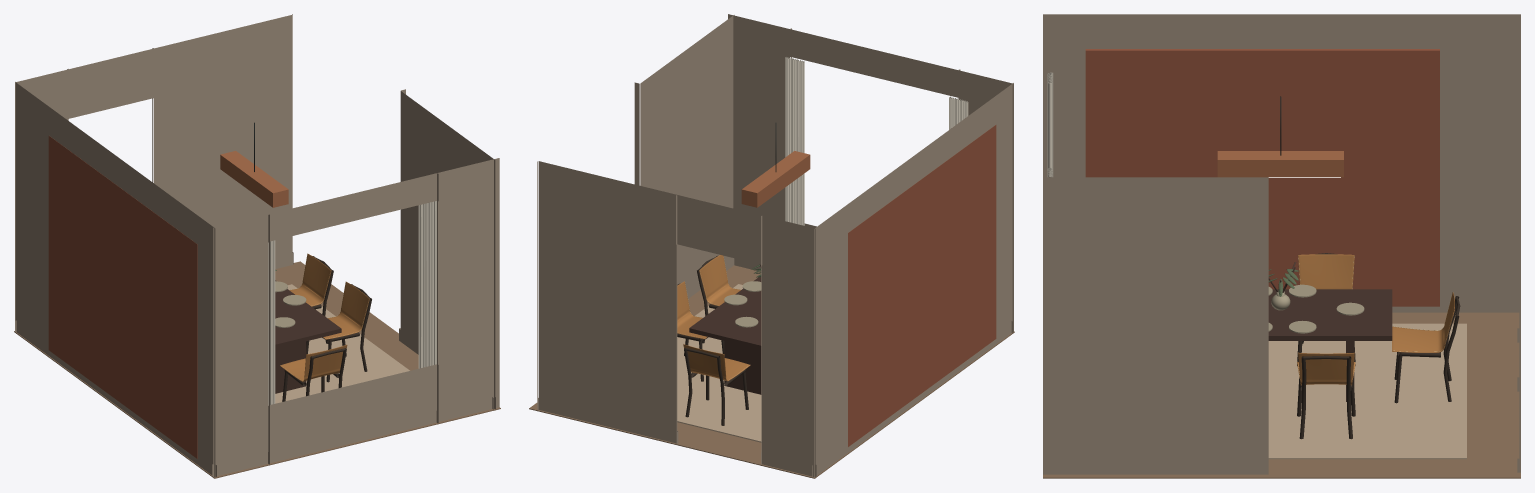
Rendered from dining-1.glb.
The picture shows the model from 3 angles, left to right: view 1: azimuth 30°, elevation 25°; view 2: azimuth 150°, elevation 25°; view 3: azimuth 270°, elevation 25°; orthographic projection. The views are drawn at different scales.
Parts seen in each view (by area): view 1: DESIGN | dining removable wall finish, DESIGN | Dining clay wall field, DESIGN | dining floor finish, DESIGN | Dining ground, DESIGN | Dining linen edge.001, DESIGN | Dining table top, DESIGN | Dining light 1 shade, DESIGN | Required Isadora dining chair 3, DESIGN | Required Isadora dining chair 5, DESIGN | Required Isadora dining chair 4, DESIGN | Dining linen edge, DESIGN | Dining table trestle; view 2: DESIGN | dining removable wall finish, DESIGN | Dining clay wall field, DESIGN | Dining ground, DESIGN | dining floor finish, DESIGN | Dining linen edge.001, DESIGN | Dining table top, DESIGN | Required Isadora dining chair 6, DESIGN | Dining light 1 shade, DESIGN | Required Isadora dining chair 3, DESIGN | Dining table trestle.001, DESIGN | Required Isadora dining chair 4; view 3: DESIGN | dining removable wall finish, DESIGN | Dining clay wall field, DESIGN | Dining ground, DESIGN | dining floor finish, DESIGN | Dining table top, DESIGN | Dining light 1 shade, DESIGN | Required Isadora dining chair 6, DESIGN | Required Isadora dining chair 4, DESIGN | Required Isadora dining chair 2, DESIGN | Dining linen edge.
Part boxes in pixels (x1,y1,x2,y2): DESIGN | dining removable wall finish: (15,14,499,477); DESIGN | Dining clay wall field: (48,136,197,458); DESIGN | dining floor finish: (14,261,500,478); DESIGN | Dining ground: (275,284,409,403); DESIGN | Dining linen edge.001: (418,201,436,368); DESIGN | Dining table top: (275,280,341,348); DESIGN | Dining light 1 shade: (220,151,288,207); DESIGN | Required Isadora dining chair 3: (306,281,371,382); DESIGN | Required Isadora dining chair 5: (280,344,347,401); DESIGN | Required Isadora dining chair 4: (289,253,333,343); DESIGN | Dining linen edge: (268,240,275,405); DESIGN | Dining table trestle: (275,341,306,393); DESIGN | dining removable wall finish: (537,14,1013,477); DESIGN | Dining clay wall field: (848,125,996,446); DESIGN | Dining ground: (677,284,761,442); DESIGN | dining floor finish: (529,265,1014,478); DESIGN | Dining linen edge.001: (785,57,804,225); DESIGN | Dining table top: (689,277,761,349); DESIGN | Required Isadora dining chair 6: (683,344,750,425); DESIGN | Dining light 1 shade: (741,151,810,207); DESIGN | Required Isadora dining chair 3: (697,255,740,343); DESIGN | Dining table trestle.001: (724,341,761,394); DESIGN | Required Isadora dining chair 4: (677,281,724,381); DESIGN | dining removable wall finish: (1043,14,1520,474); DESIGN | Dining clay wall field: (1085,49,1439,306); DESIGN | Dining ground: (1268,323,1466,459); DESIGN | dining floor finish: (1043,312,1520,478); DESIGN | Dining table top: (1268,289,1392,340); DESIGN | Dining light 1 shade: (1217,151,1343,177); DESIGN | Required Isadora dining chair 6: (1392,292,1460,403); DESIGN | Required Isadora dining chair 4: (1297,352,1355,439); DESIGN | Required Isadora dining chair 2: (1297,253,1355,365); DESIGN | Dining linen edge: (1047,72,1053,170).
Bounding box in the file's own units: 3.28 × 2.74 × 3.98.
